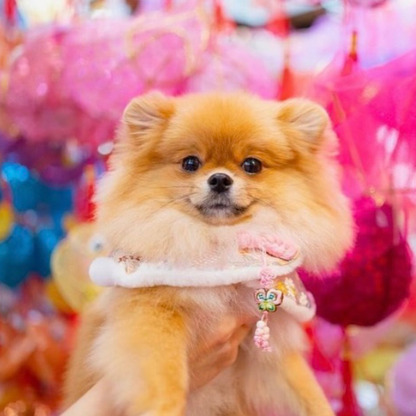Pomeranian: (83, 70, 355, 403)
